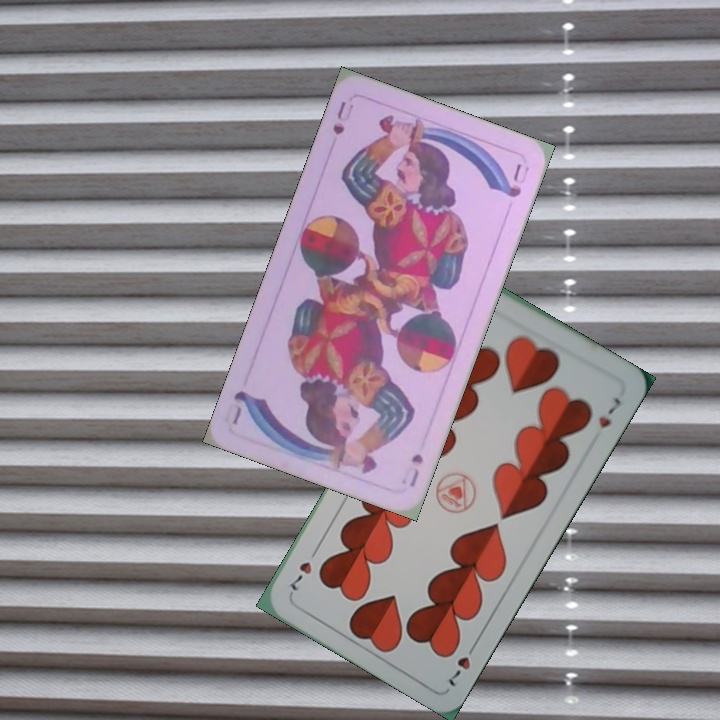H7: (444, 637, 481, 690)
SU: (328, 97, 356, 138), (404, 449, 426, 489)
